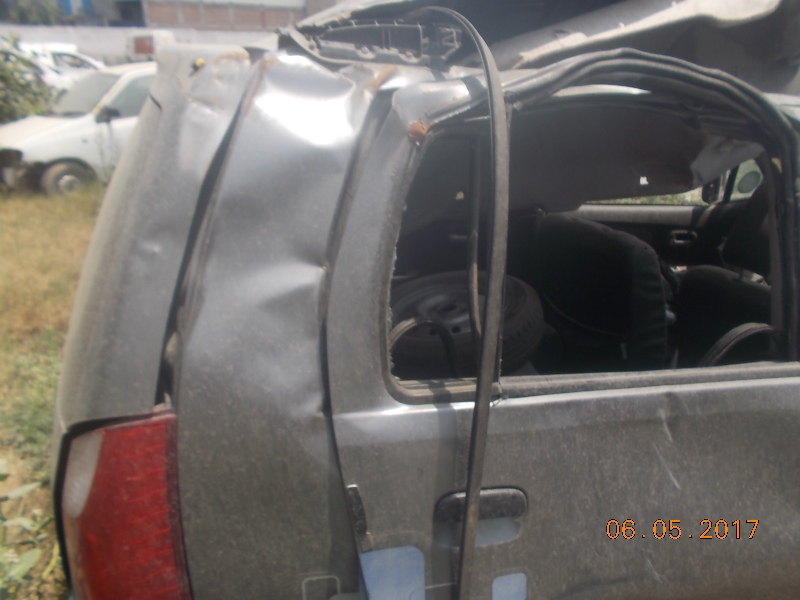Dent: (226, 182, 323, 334), (261, 60, 353, 145)
